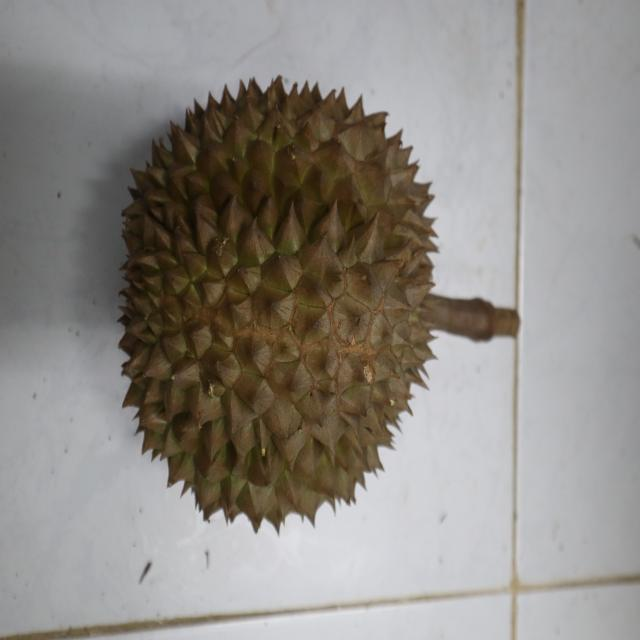mature: (119, 73, 439, 541)
